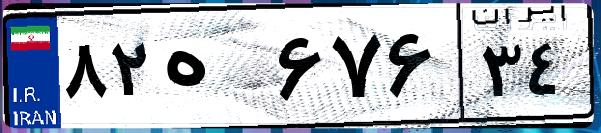2: (110, 28, 158, 98)
3: (475, 38, 525, 113)
4: (525, 38, 570, 115)
6: (270, 28, 330, 110), (385, 28, 445, 110)
7: (330, 28, 385, 110)
8: (57, 26, 110, 100)
ه: (158, 20, 270, 120)
